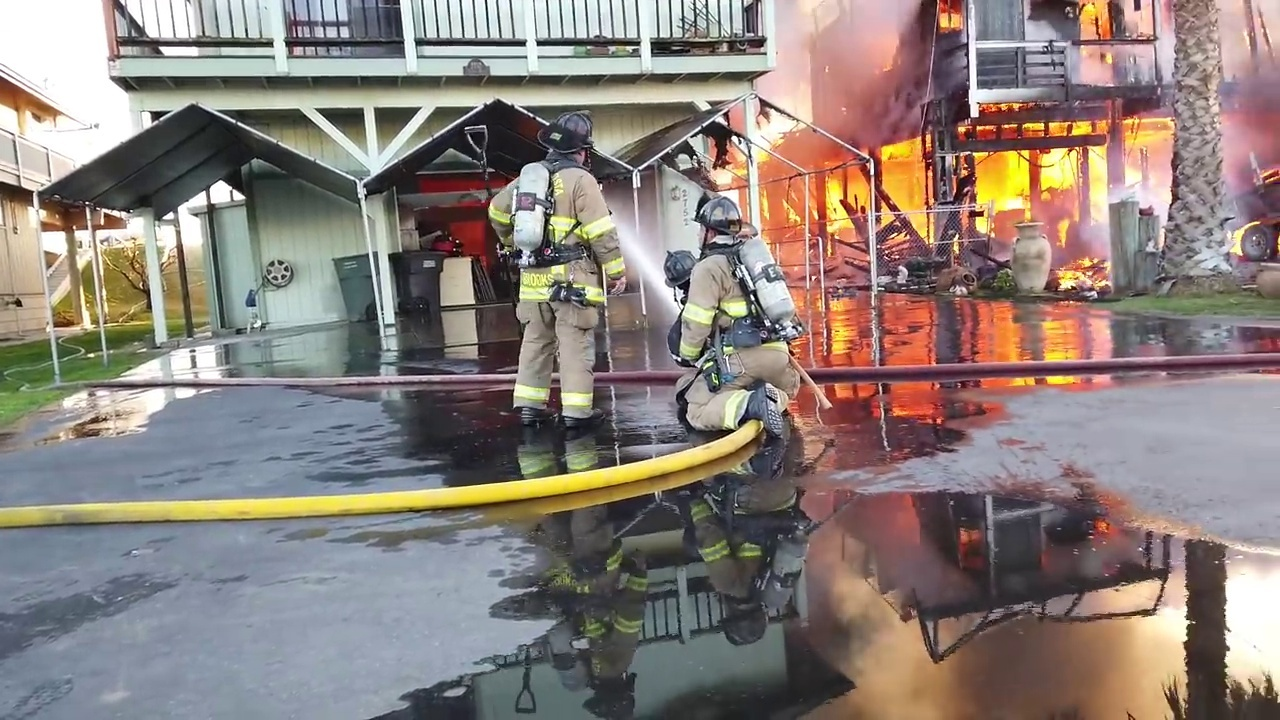fire: (954, 22, 1172, 233), (722, 131, 949, 290), (398, 168, 501, 263), (1052, 250, 1115, 303), (1076, 1, 1113, 41), (933, 1, 966, 34)
smoke: (1180, 4, 1280, 182), (752, 1, 900, 111), (1228, 221, 1273, 264)
